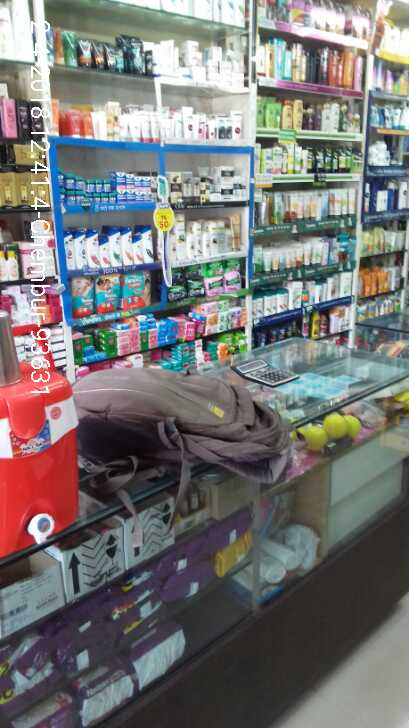vicks: (52, 169, 163, 215)
